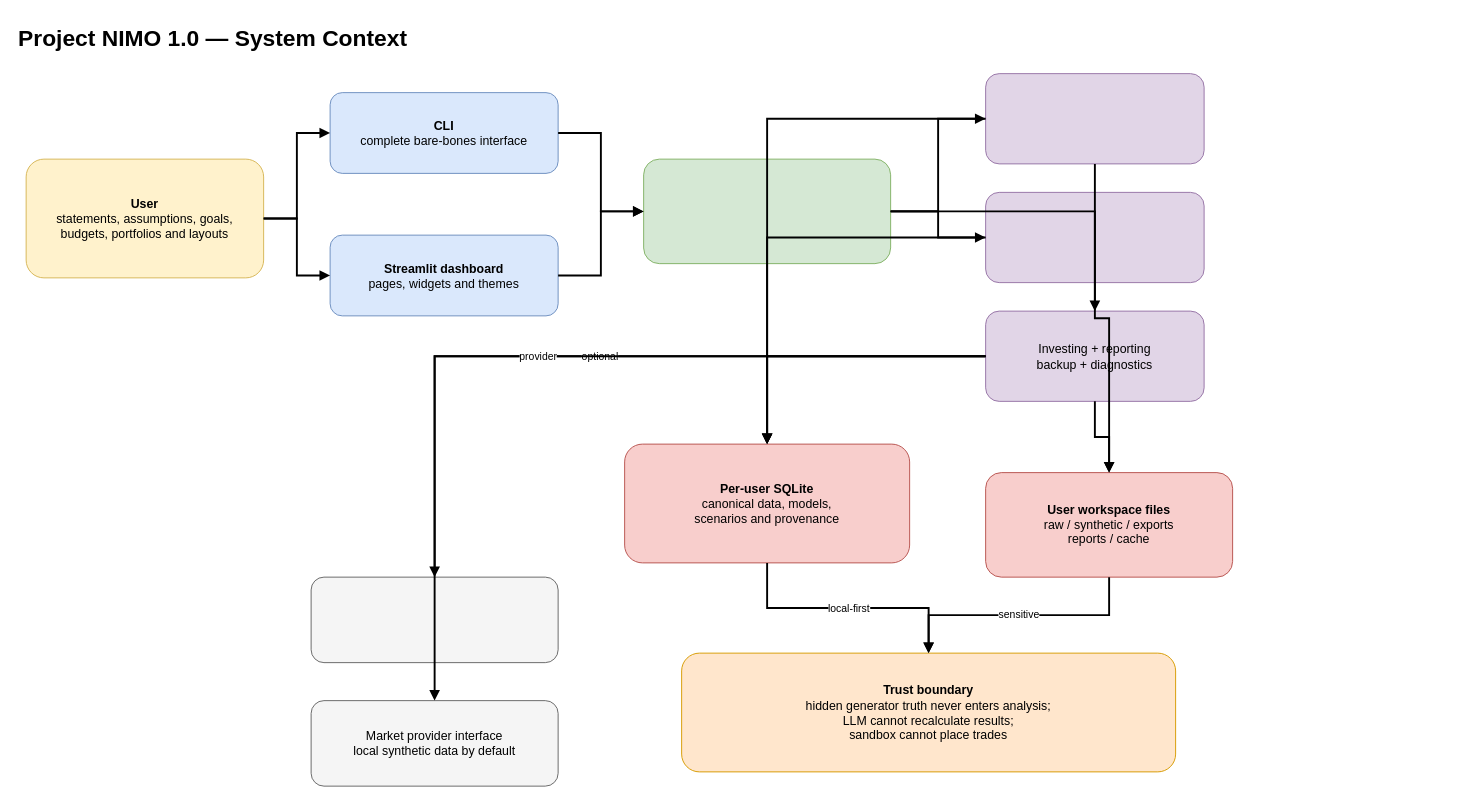
This 1476x803 diagram has some shape labels left out. The box of each missing label's shape, as (x1, y1, x2, y2) in pixels:
Analysis + behaviour forecasting + planning: (985, 191, 1204, 283)
Application services shared use-case boundary: (643, 158, 891, 264)
Generation + ingestion categories + transfers: (985, 73, 1204, 164)
Optional OpenAI provider structured narrative only: (310, 576, 558, 663)
